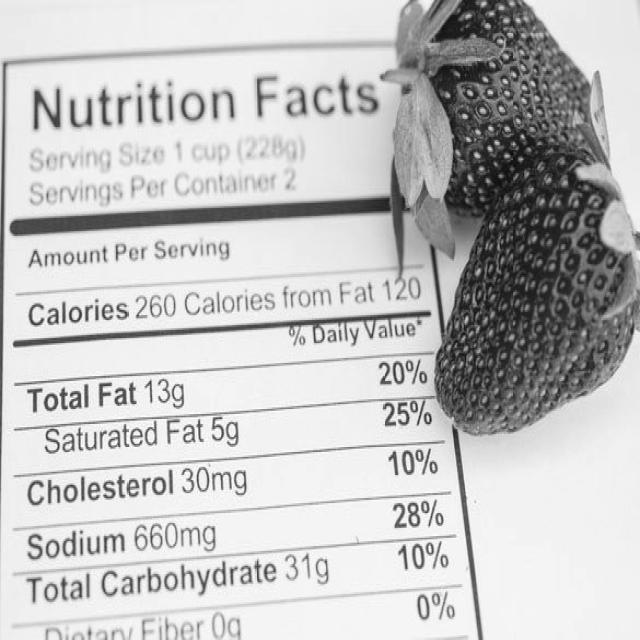Nutrition Label: (0, 34, 491, 640)
